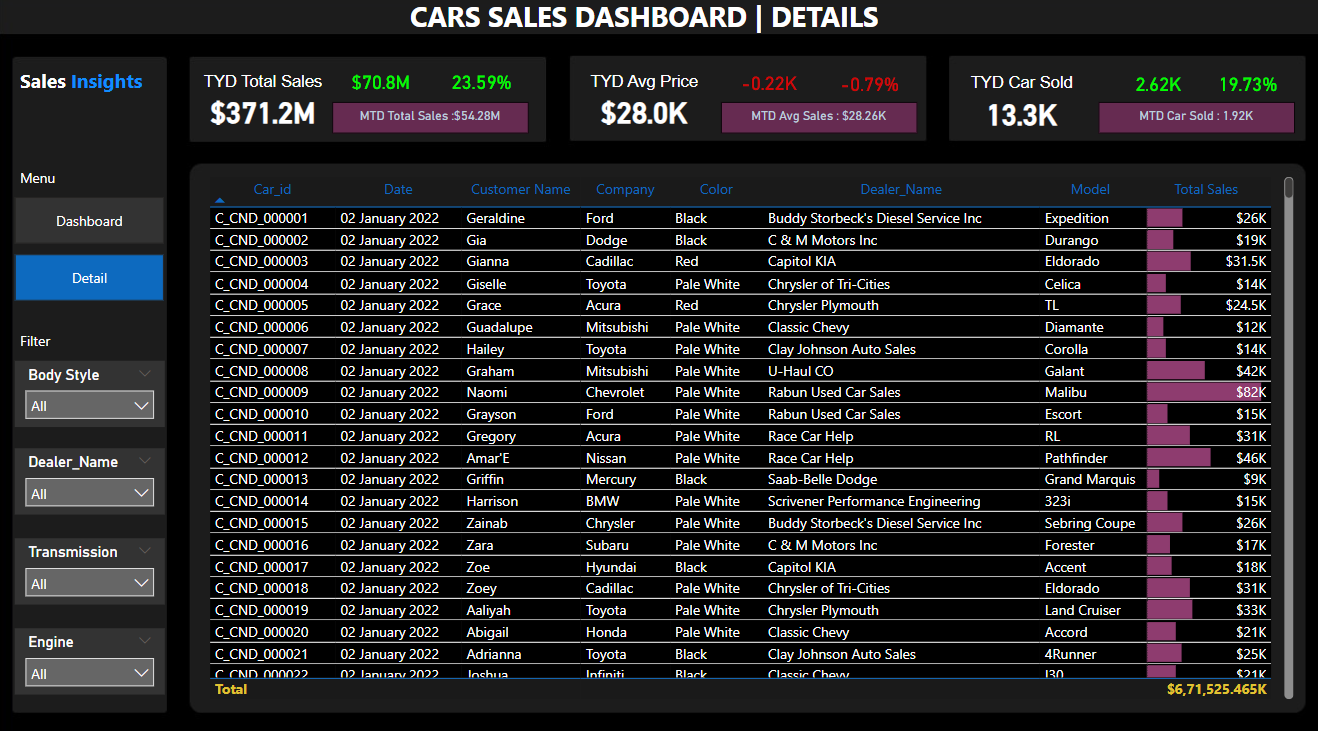

This screenshot's page, from the dashboard's own definition file:
{"tool":"powerbi","page":{"name":"Detail","canvas":[1280,720],"ordinal":1},"visuals":[{"type":"card","title":"TYD  Total Sales","fields":{"Values":["car_data.TYD Total Sales"]},"box":[111,77.2,293.2,59.1],"z":0},{"type":"card","fields":{"Values":["car_data.Difference of Sale Over Year"]},"box":[313.7,67.6,115.8,39.8],"z":1000},{"type":"card","fields":{"Values":["car_data.YoY Growth"]},"box":[419.8,67.6,97.7,41],"z":2000},{"type":"card","fields":{"Values":["car_data.MTD KPI"]},"box":[324.5,106.2,189.4,30.2],"z":3000},{"type":"card","title":"TYD  Avg Price","fields":{"Values":["car_data.YTD Avg Price"]},"box":[479,77.2,293.2,59.1],"z":4000},{"type":"card","fields":{"Values":["car_data.Avg Price Diff"]},"box":[687.7,68.8,115.8,39.8],"z":5000},{"type":"card","fields":{"Values":["car_data.YoY Avg Price Growth"]},"box":[793.8,68.8,97.7,41],"z":6000},{"type":"card","fields":{"Values":["car_data.Avg MTD KPI"]},"box":[699.7,106.2,189.4,30.2],"z":7000},{"type":"card","title":"TYD  Car Sold","fields":{"Values":["car_data.YTD Car Solds"]},"box":[843.3,78.4,293.2,59.1],"z":8000},{"type":"card","fields":{"Values":["car_data.Car Sold Diff"]},"box":[1064.1,70,115.8,39.8],"z":9000},{"type":"card","fields":{"Values":["car_data.YoY Car Growth"]},"box":[1159.4,68.8,97.7,41],"z":10000},{"type":"card","fields":{"Values":["car_data.Car Sold Concatenate Kpi"]},"box":[1064.1,106.2,189.4,30.2],"z":11000},{"type":"slicer","fields":{"Values":["car_data.Body Style"]},"box":[18.1,355.9,144.8,63.9],"z":12000},{"type":"slicer","fields":{"Values":["car_data.Engine"]},"box":[18.1,614.1,144.8,63.9],"z":13000},{"type":"slicer","fields":{"Values":["car_data.Transmission"]},"box":[18.1,527.2,144.8,63.9],"z":14000},{"type":"slicer","fields":{"Values":["car_data.Dealer_Name"]},"box":[18.1,440.4,144.8,63.9],"z":15000},{"type":"textbox","box":[394.5,0,618.9,45.8],"z":16000},{"type":"tableEx","fields":{"Values":["car_data.Car_id","car_data.Date","car_data.Customer Name","car_data.Company","car_data.Color","car_data.Dealer_Name","car_data.Model","Sum(car_data.Price ($))"]},"box":[200.3,173.7,1056.8,513.9],"z":17000},{"type":"pageNavigator","box":[18.1,197.9,144.8,100.1],"z":18000},{"type":"textbox","box":[18.1,67.6,159.3,42.2],"z":19000},{"type":"textbox","box":[18.1,165.3,79.6,32.6],"z":20000},{"type":"textbox","box":[18.1,322.1,72.4,33.8],"z":21000}]}

Visuals, with their boxes in screenshot pixels (x1, y1, x2, y2), scaled from the page's 1280x720 canvas onto the 1318x731 screenshot:
"TYD  Total Sales" card: [114,78,416,138]
card - car_data.Difference of Sale Over Year: [323,69,442,109]
card - car_data.YoY Growth: [432,69,533,110]
card - car_data.MTD KPI: [334,108,529,138]
"TYD  Avg Price" card: [493,78,795,138]
card - car_data.Avg Price Diff: [708,70,827,110]
card - car_data.YoY Avg Price Growth: [817,70,918,111]
card - car_data.Avg MTD KPI: [720,108,915,138]
"TYD  Car Sold" card: [868,80,1170,140]
card - car_data.Car Sold Diff: [1096,71,1215,111]
card - car_data.YoY Car Growth: [1194,70,1294,111]
card - car_data.Car Sold Concatenate Kpi: [1096,108,1291,138]
slicer - car_data.Body Style: [19,361,168,426]
slicer - car_data.Engine: [19,623,168,688]
slicer - car_data.Transmission: [19,535,168,600]
slicer - car_data.Dealer_Name: [19,447,168,512]
textbox: [406,0,1043,46]
tableEx - car_data.Car_id x car_data.Date: [206,176,1294,698]
pageNavigator: [19,201,168,303]
textbox: [19,69,183,111]
textbox: [19,168,101,201]
textbox: [19,327,93,361]
